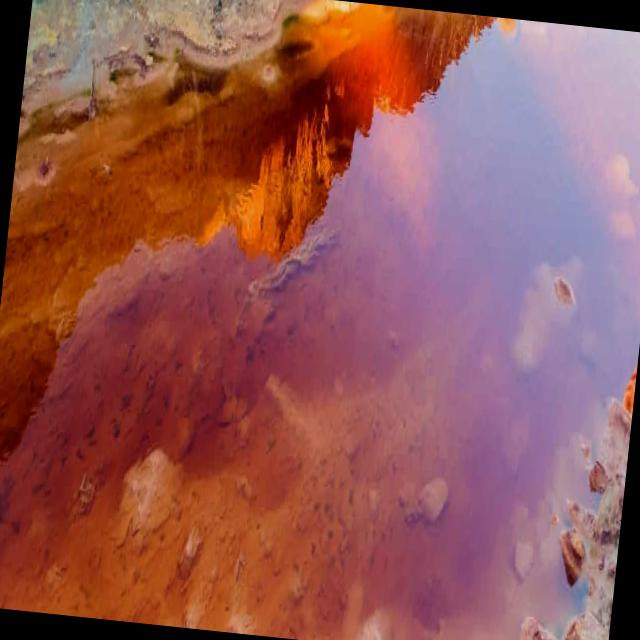yellow_boy: (0, 26, 640, 640)
